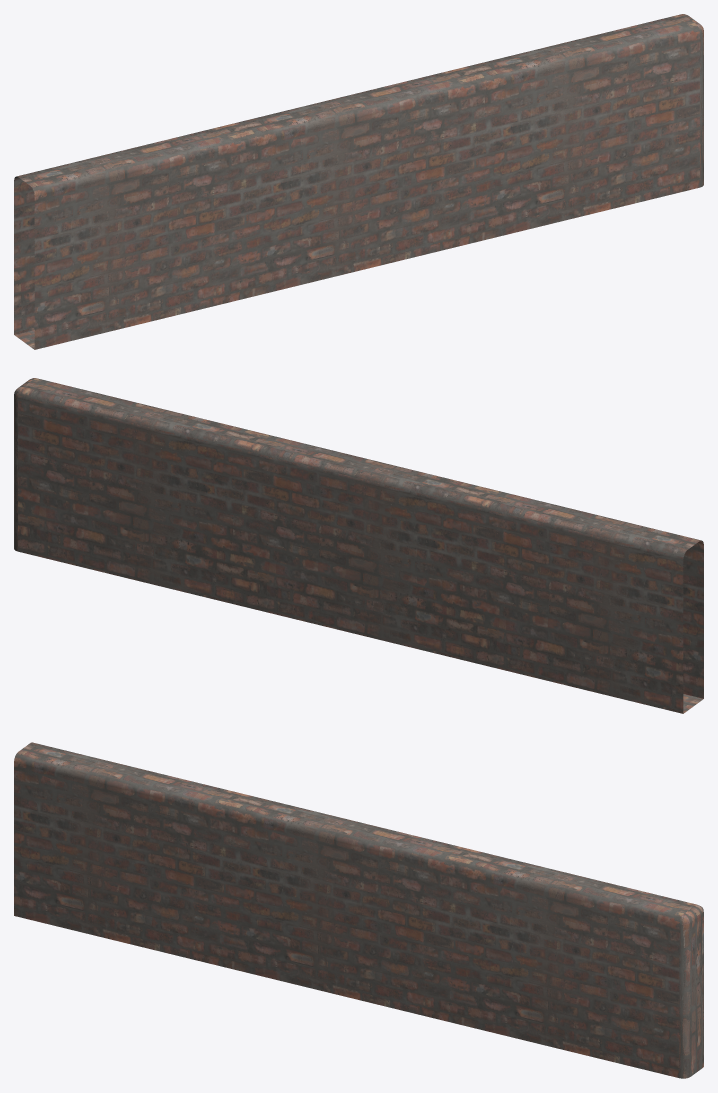
The model's file is Wall1.fbx.
3 views of the same model, one above another, from view 1: azimuth 30°, elevation 25°; view 2: azimuth 150°, elevation 25°; view 3: azimuth 330°, elevation 25° (orthographic).
Parts seen in each view (by area): view 1: 01.001; view 2: 01.001; view 3: 01.001.
Boxes of the visible parts, x1=… form: 01.001: x1=14, y1=14, x2=703, y2=349; 01.001: x1=14, y1=378, x2=703, y2=713; 01.001: x1=14, y1=742, x2=703, y2=1078.
Size of the model in its own units: 270 by 61.73 by 14.36.
1 material, 1 textured.
